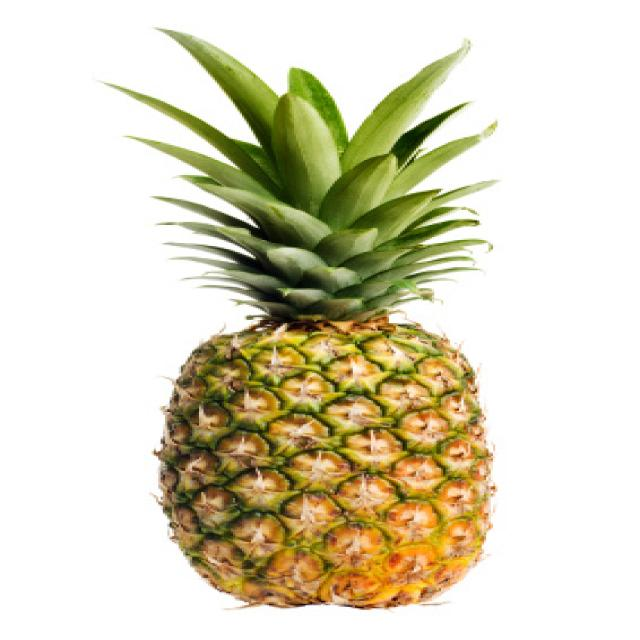pineapple: (124, 216, 550, 622)
